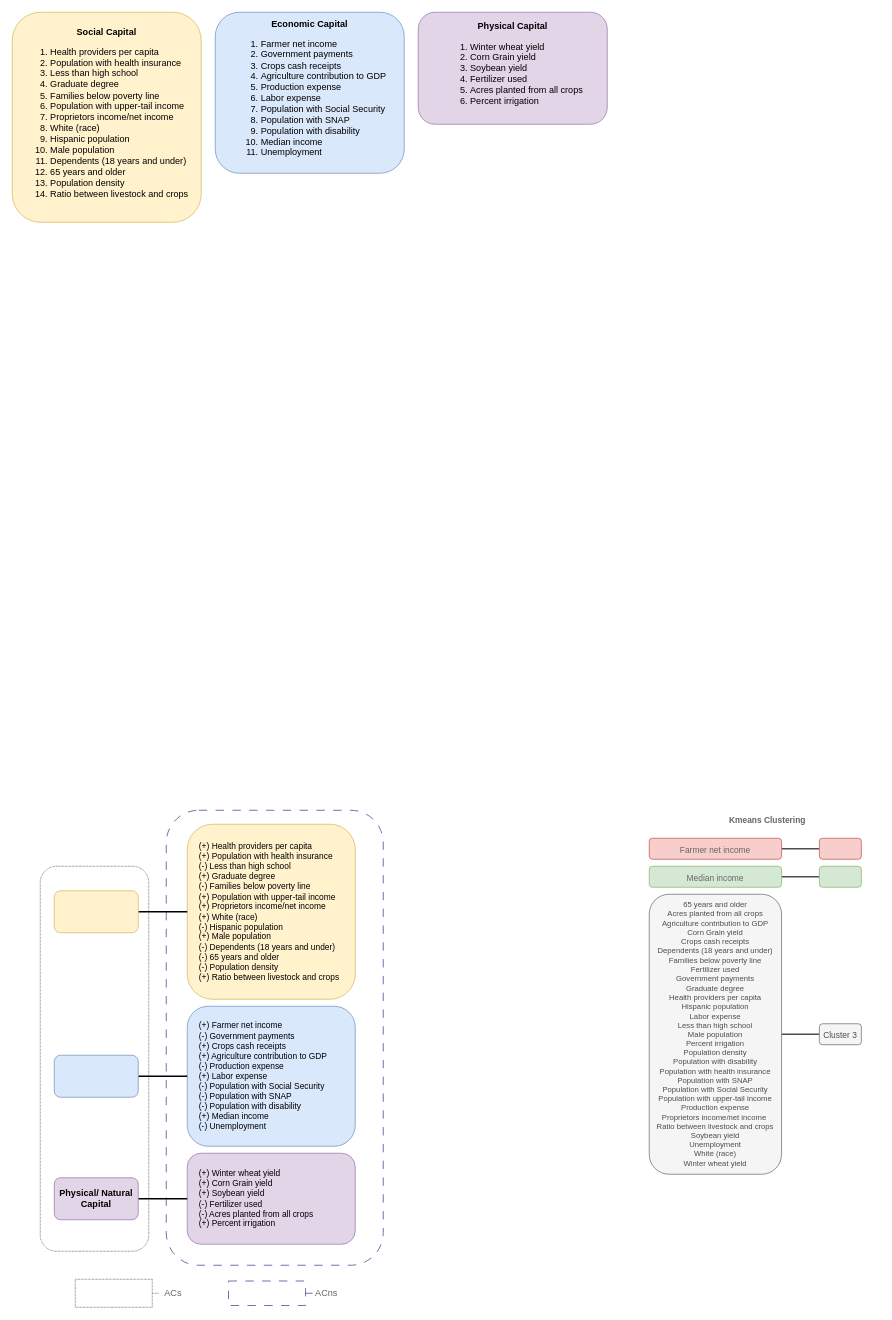
This 892x1320 diagram has some shape labels left out. The centre of each missing label's shape, as x and y in pixels:
"Cluster 1" goes at point (840, 848).
"Cluster 2" goes at point (840, 876).
"Economic Capital" goes at point (96, 1076).
"No subscores (capitals)" goes at point (267, 1293).
"Social Capital" goes at point (96, 911).
"Subscores (capitals)" goes at point (113, 1293).
